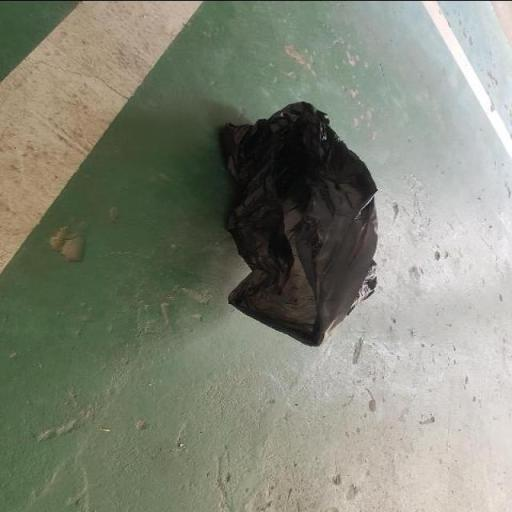plastic-bag: (212, 100, 384, 346)
